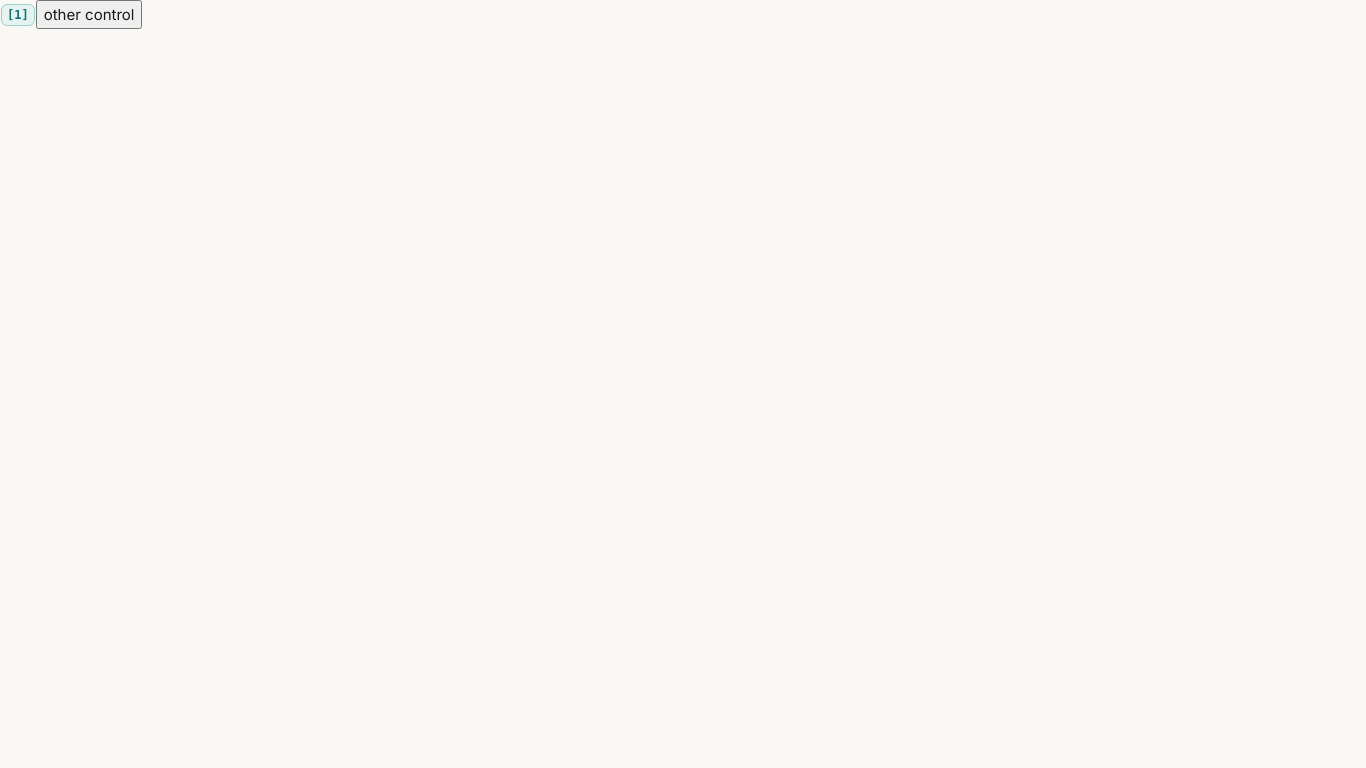
Test: CitationChip -> SourceDrawer › degrades to the quote when the chunk cannot be loaded
This screenshot has width=1366, height=768.
Step 1. Click the button named "Source 1" → (18, 15), box [1,4,35,26]
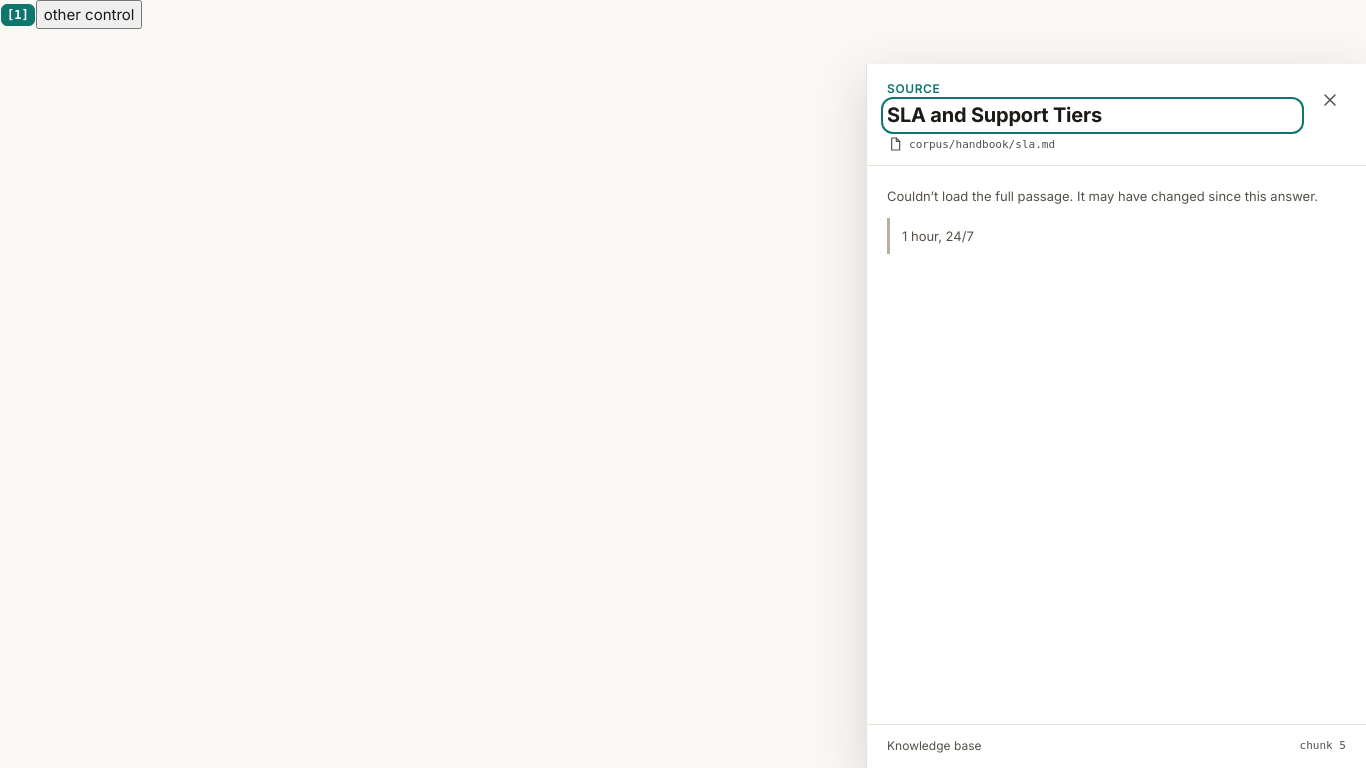
Expected: the message shows "Couldn’t load", [887,188,1318,204]
Expected: the text "1 hour, 24/7" is shown, [887,218,1346,254]
